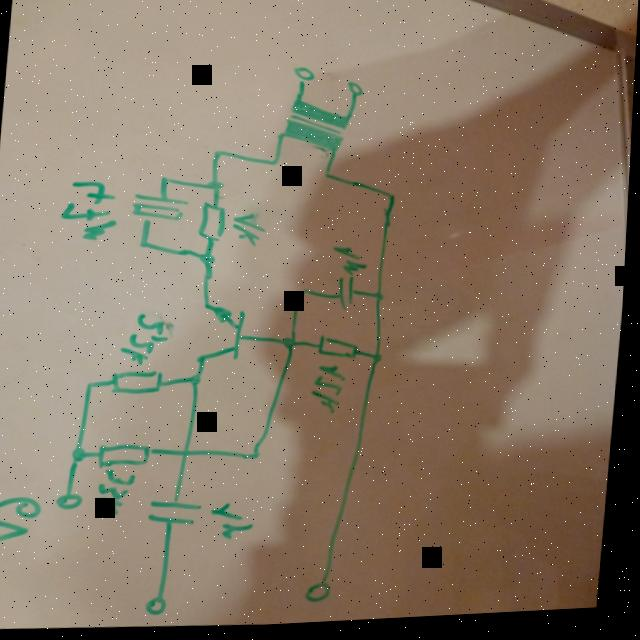capacitor: (147, 495, 208, 537), (128, 190, 191, 229), (328, 277, 365, 314)
crossover: (180, 446, 200, 462)
junction: (202, 178, 228, 197), (280, 334, 301, 356), (196, 250, 220, 269), (71, 444, 93, 464), (245, 448, 269, 466), (369, 352, 390, 370), (188, 373, 208, 389), (370, 291, 389, 307), (154, 173, 173, 189), (385, 191, 401, 207), (83, 378, 100, 393), (266, 158, 284, 171), (136, 238, 152, 252), (317, 172, 334, 185), (210, 149, 226, 162), (297, 288, 312, 301)
resistor: (104, 366, 170, 401), (96, 441, 159, 471), (193, 199, 231, 248), (315, 334, 365, 366)
terminal: (305, 580, 341, 610), (143, 591, 177, 622), (54, 488, 90, 515), (286, 66, 318, 90), (337, 80, 367, 103)
text: (55, 175, 124, 248), (118, 309, 173, 370), (0, 492, 48, 546), (307, 364, 351, 421), (95, 467, 141, 519), (209, 501, 262, 546), (227, 212, 269, 251), (329, 245, 371, 280)
transformer: (273, 100, 350, 161)
transistor: (193, 298, 254, 373)
